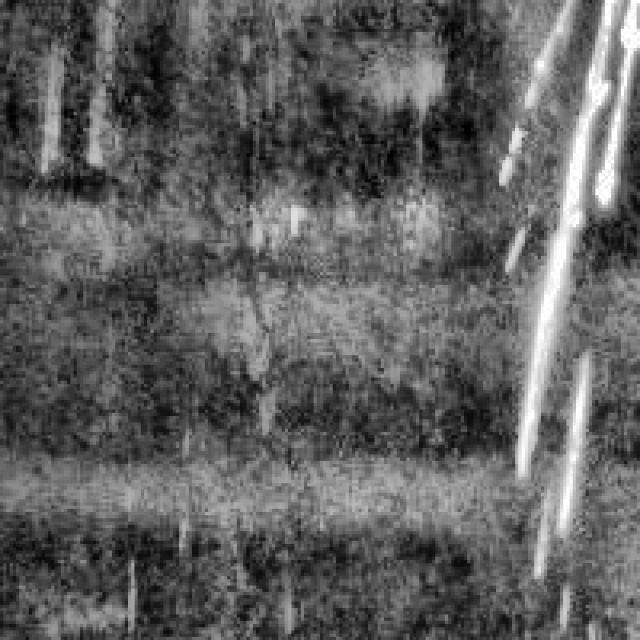Inclusion: (502, 0, 634, 467), (538, 339, 602, 541)
